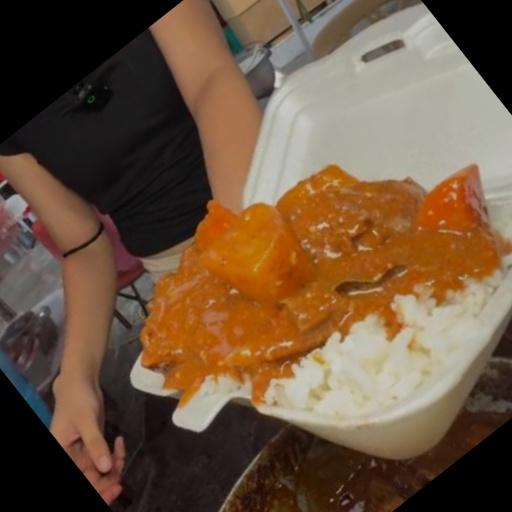pork caldereta: (135, 165, 506, 374)
